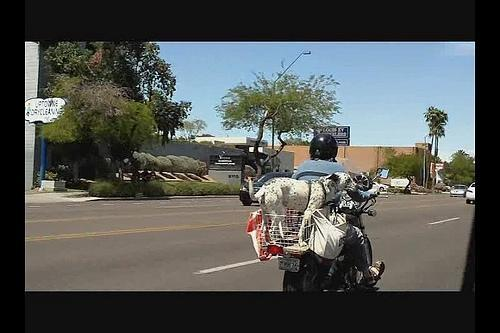car: (240, 172, 294, 205), (450, 185, 468, 199), (465, 182, 475, 204), (372, 182, 390, 192)
motorcycle: (282, 166, 390, 294), (338, 192, 391, 267)
